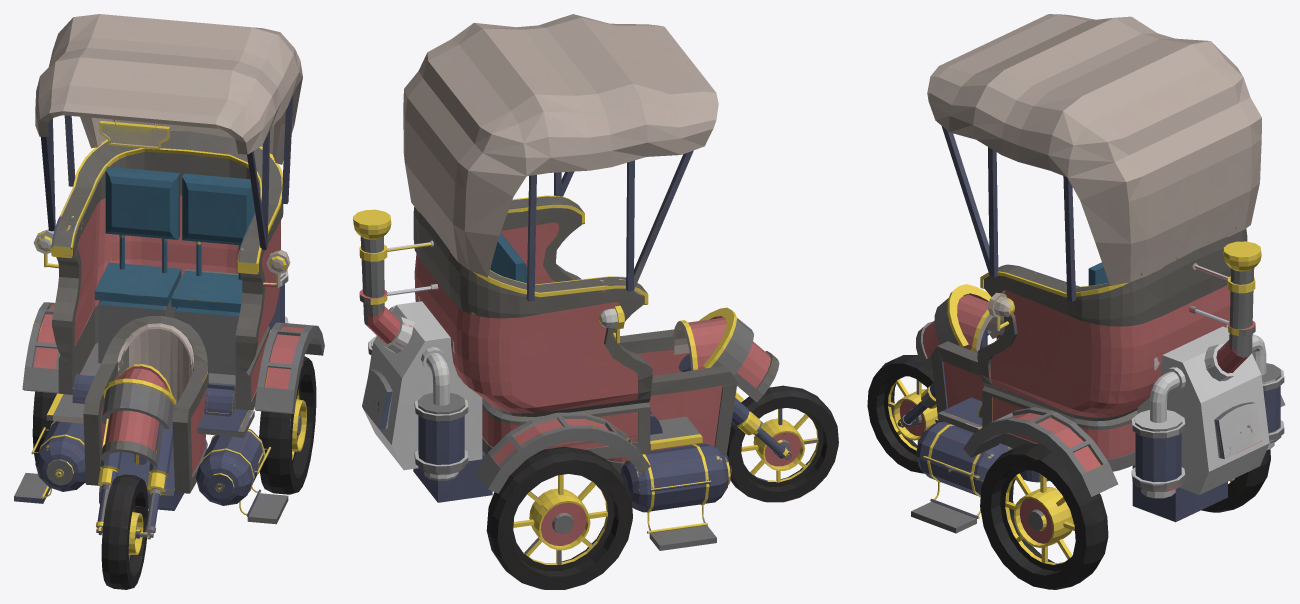
3 views of the same model, side by side, from view 1: azimuth 30°, elevation 25°; view 2: azimuth 150°, elevation 25°; view 3: azimuth 270°, elevation 25° (orthographic). The views are drawn at different scales.
Visible parts, largest first — view 1: model; view 2: model; view 3: model.
Boxes of the visible parts, x1,y1,x2,y2 form: model: (14,14,324,589); model: (353,14,838,589); model: (867,14,1285,589).
Size of the model in its own units: 0.7418 by 1 by 0.7906.
Materials: 1 (1 with a texture image).
